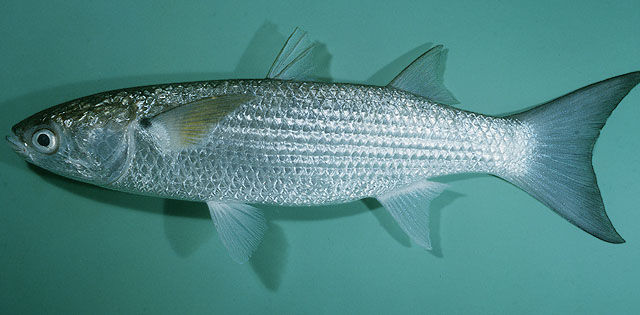fish: (6, 25, 639, 266)
